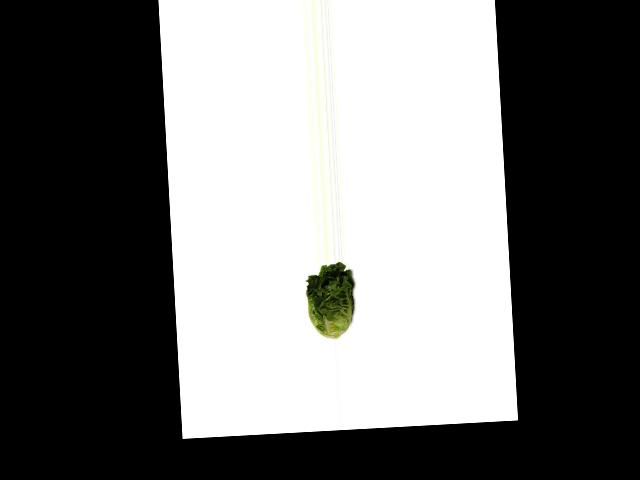lettuce: (300, 263, 360, 340)
